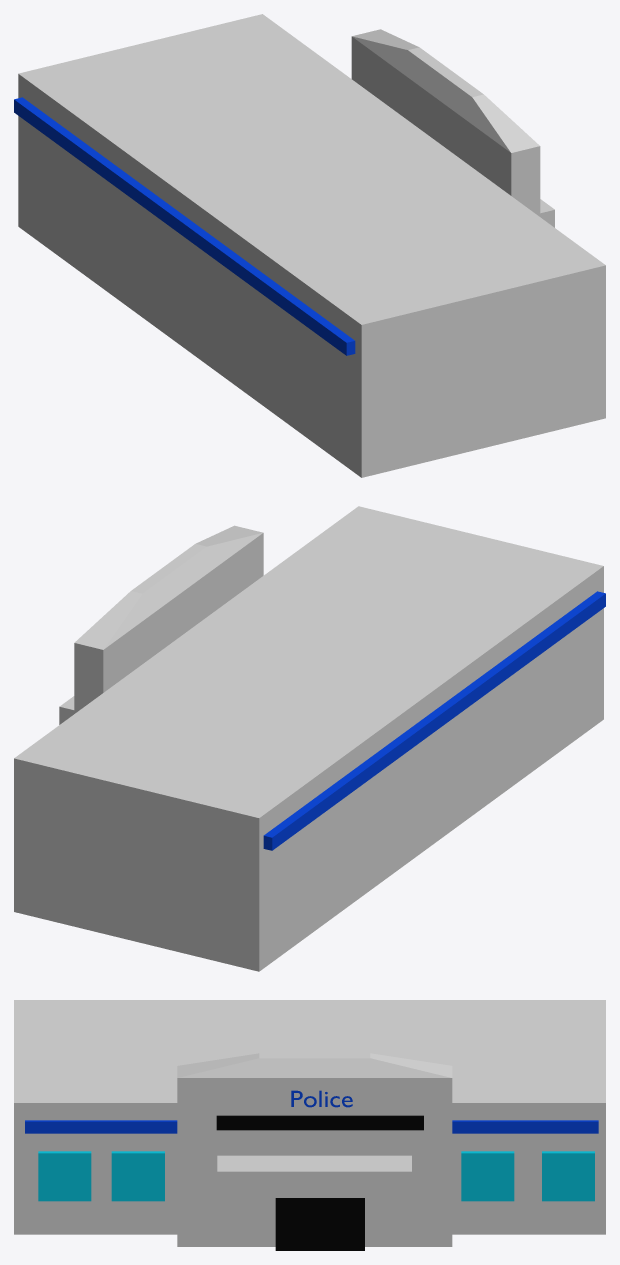
File: Policestation.fbx
The picture shows the model from 3 angles, top to bottom: view 1: azimuth 30°, elevation 25°; view 2: azimuth 150°, elevation 25°; view 3: azimuth 270°, elevation 25°; orthographic projection. The views are drawn at different scales.
Visible parts, largest first — view 1: Cube, Cube.008; view 2: Cube, Cube.008; view 3: Cube, Cube.005, Cube.007, Cube.006, Cube.001, Cube.003, Cube.004, Cube.002, Text.
Part boxes in pixels (bbox=[...]): Cube: bbox=[18, 14, 605, 477]; Cube.008: bbox=[14, 97, 355, 355]; Cube: bbox=[14, 506, 603, 971]; Cube.008: bbox=[263, 591, 605, 850]; Cube: bbox=[14, 1000, 605, 1246]; Cube.005: bbox=[275, 1198, 364, 1250]; Cube.007: bbox=[25, 1120, 598, 1133]; Cube.006: bbox=[216, 1115, 423, 1130]; Cube.001: bbox=[461, 1151, 514, 1201]; Cube.003: bbox=[111, 1151, 164, 1201]; Cube.004: bbox=[38, 1151, 91, 1201]; Cube.002: bbox=[542, 1151, 594, 1201]; Text: bbox=[291, 1090, 352, 1107].
Size of the model in its own units: 1201 by 770 by 2232.
